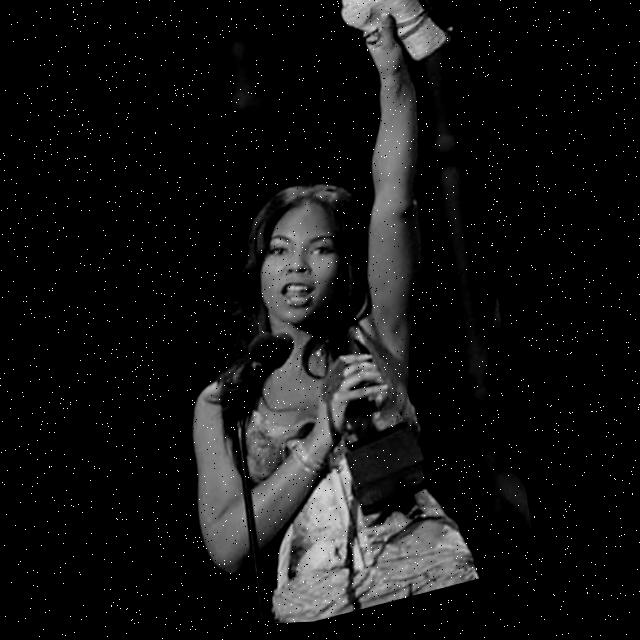face: (246, 192, 354, 331)
